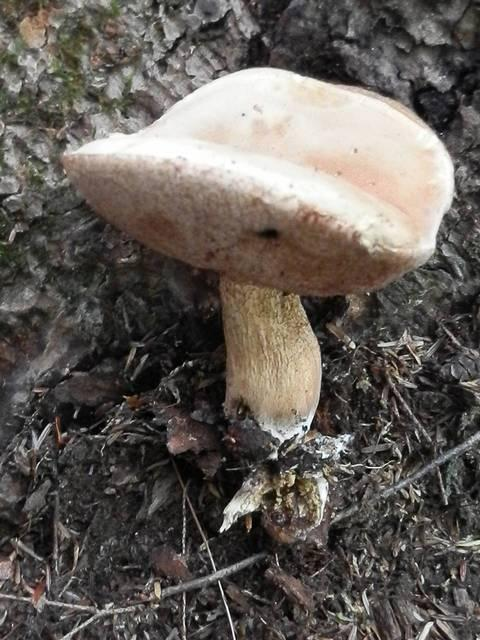Non-edible Mushroom: (59, 64, 456, 451)
